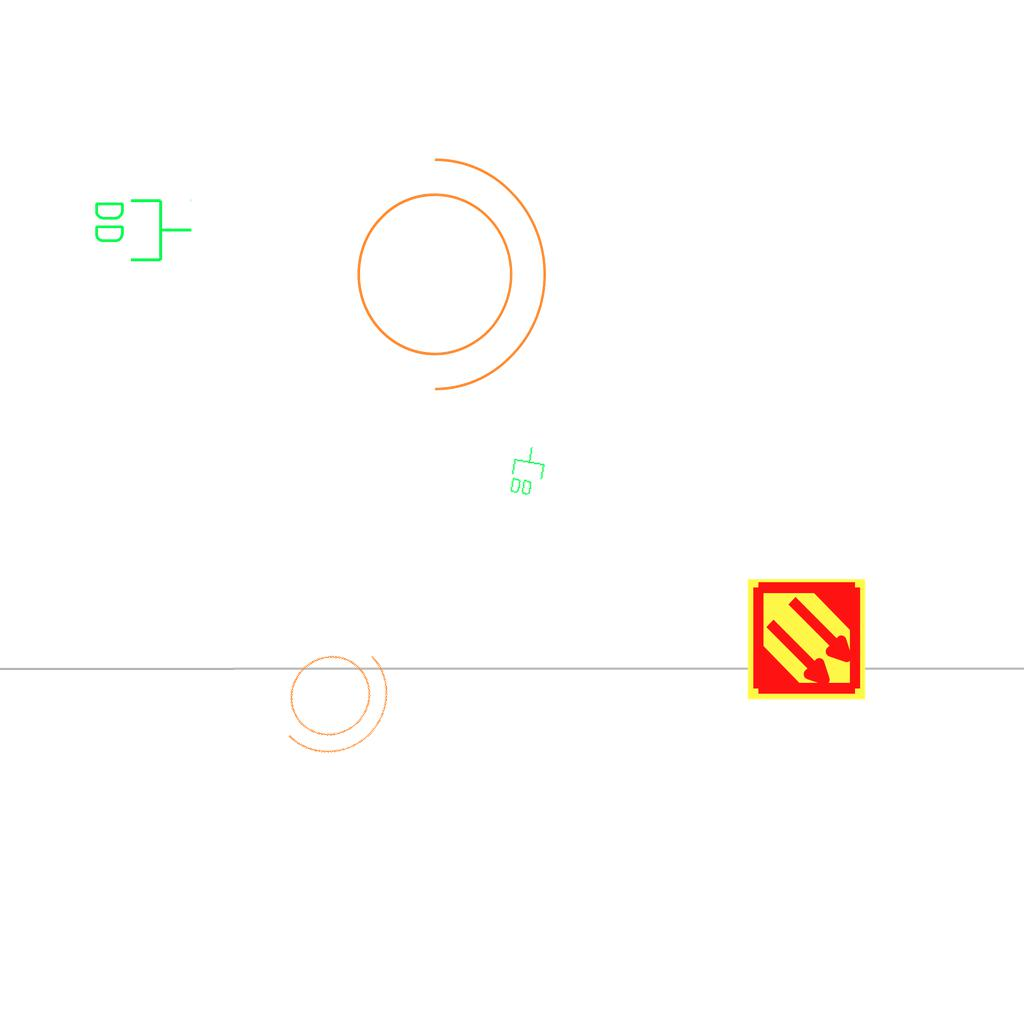ASR_Ansaugrauchmelder: (744, 577, 869, 702)
Datenanschluss_zweifach: (91, 195, 194, 264), (506, 442, 549, 500)
Scheinwerfer_fuer_Alarmbeleuchtung: (332, 136, 557, 400), (249, 610, 423, 784)
